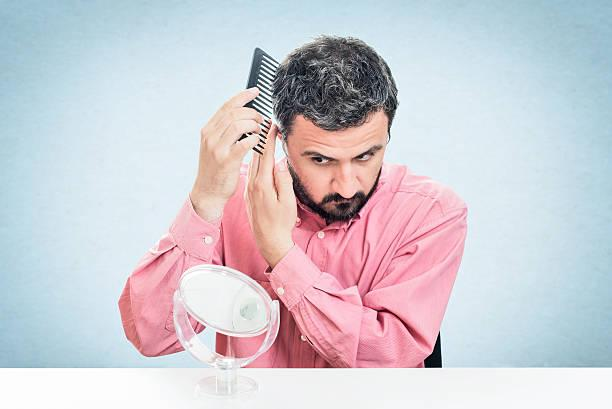grey hair: (307, 104, 334, 125), (332, 74, 354, 96), (338, 101, 366, 112), (306, 58, 330, 69), (287, 76, 298, 93), (385, 85, 391, 108)
